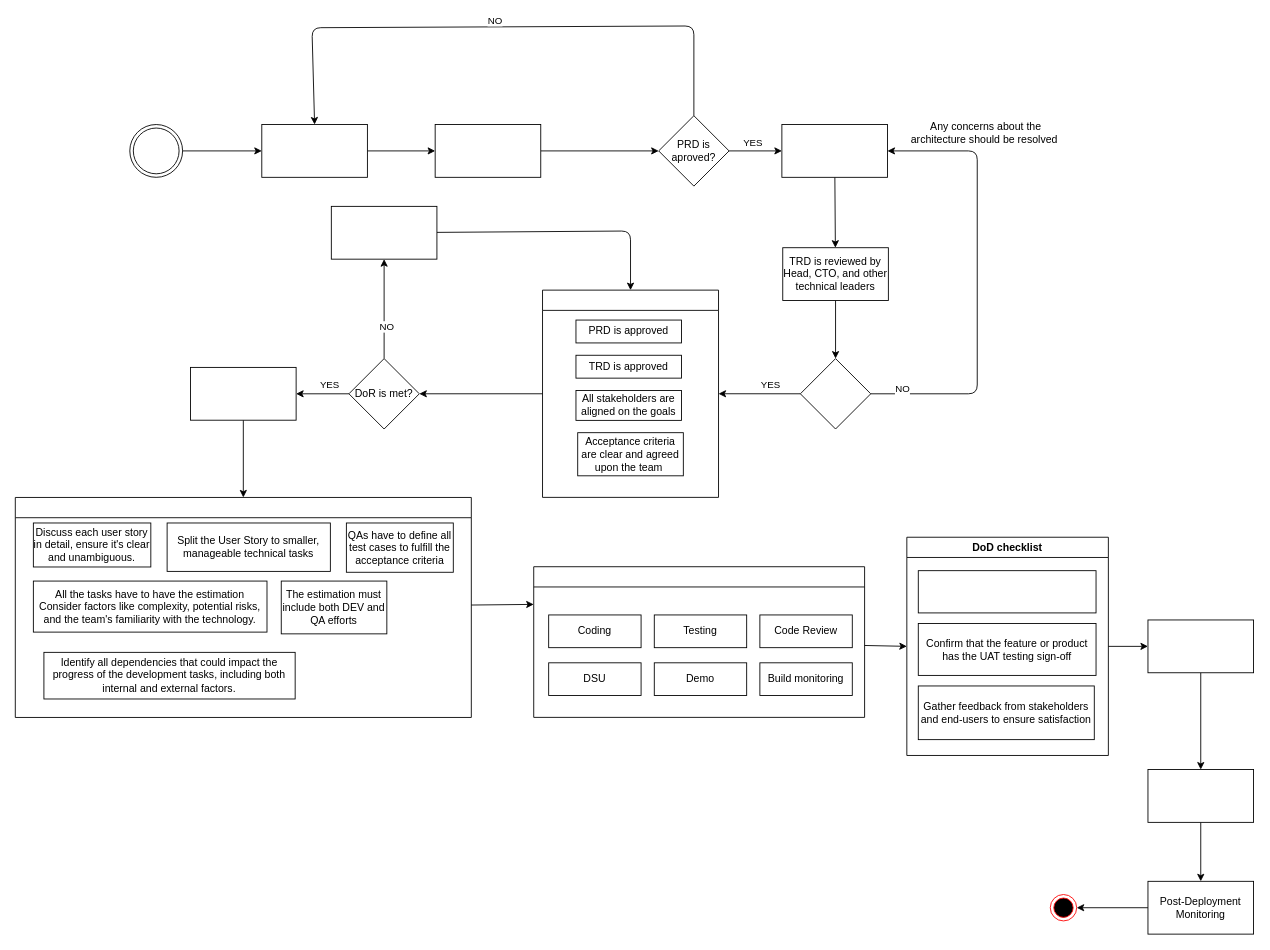
Image size: 1270x950. Some labels were removed from this diagram. Here are the shapes that lost their labels. From the top down, the box of each, then its label:
(261, 124, 367, 177): PM prepares PRD with high level goals, scopes
(434, 124, 541, 177): CTO, Head, and other relevant stakeholders review PRD
(781, 124, 887, 177): EM and development team create TRD
(330, 205, 437, 259): Fix the missing points defined in DoR checklist
(190, 367, 296, 420): Add the User Story to development team product backlog
(542, 289, 719, 497): DoR checklist
(799, 358, 871, 429): TRD is approved?
(14, 497, 471, 717): Refinement
(917, 570, 1096, 613): Ensure all acceptance criteria have been met.
(533, 566, 865, 717): Development
(1147, 619, 1254, 673): Pre-Deployment review by EM, CTO, or Head
(1147, 769, 1254, 822): Deploy
